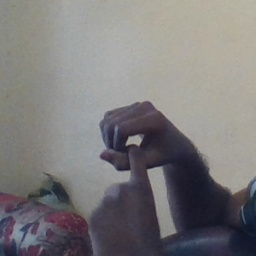Q: (84, 100, 189, 232)
